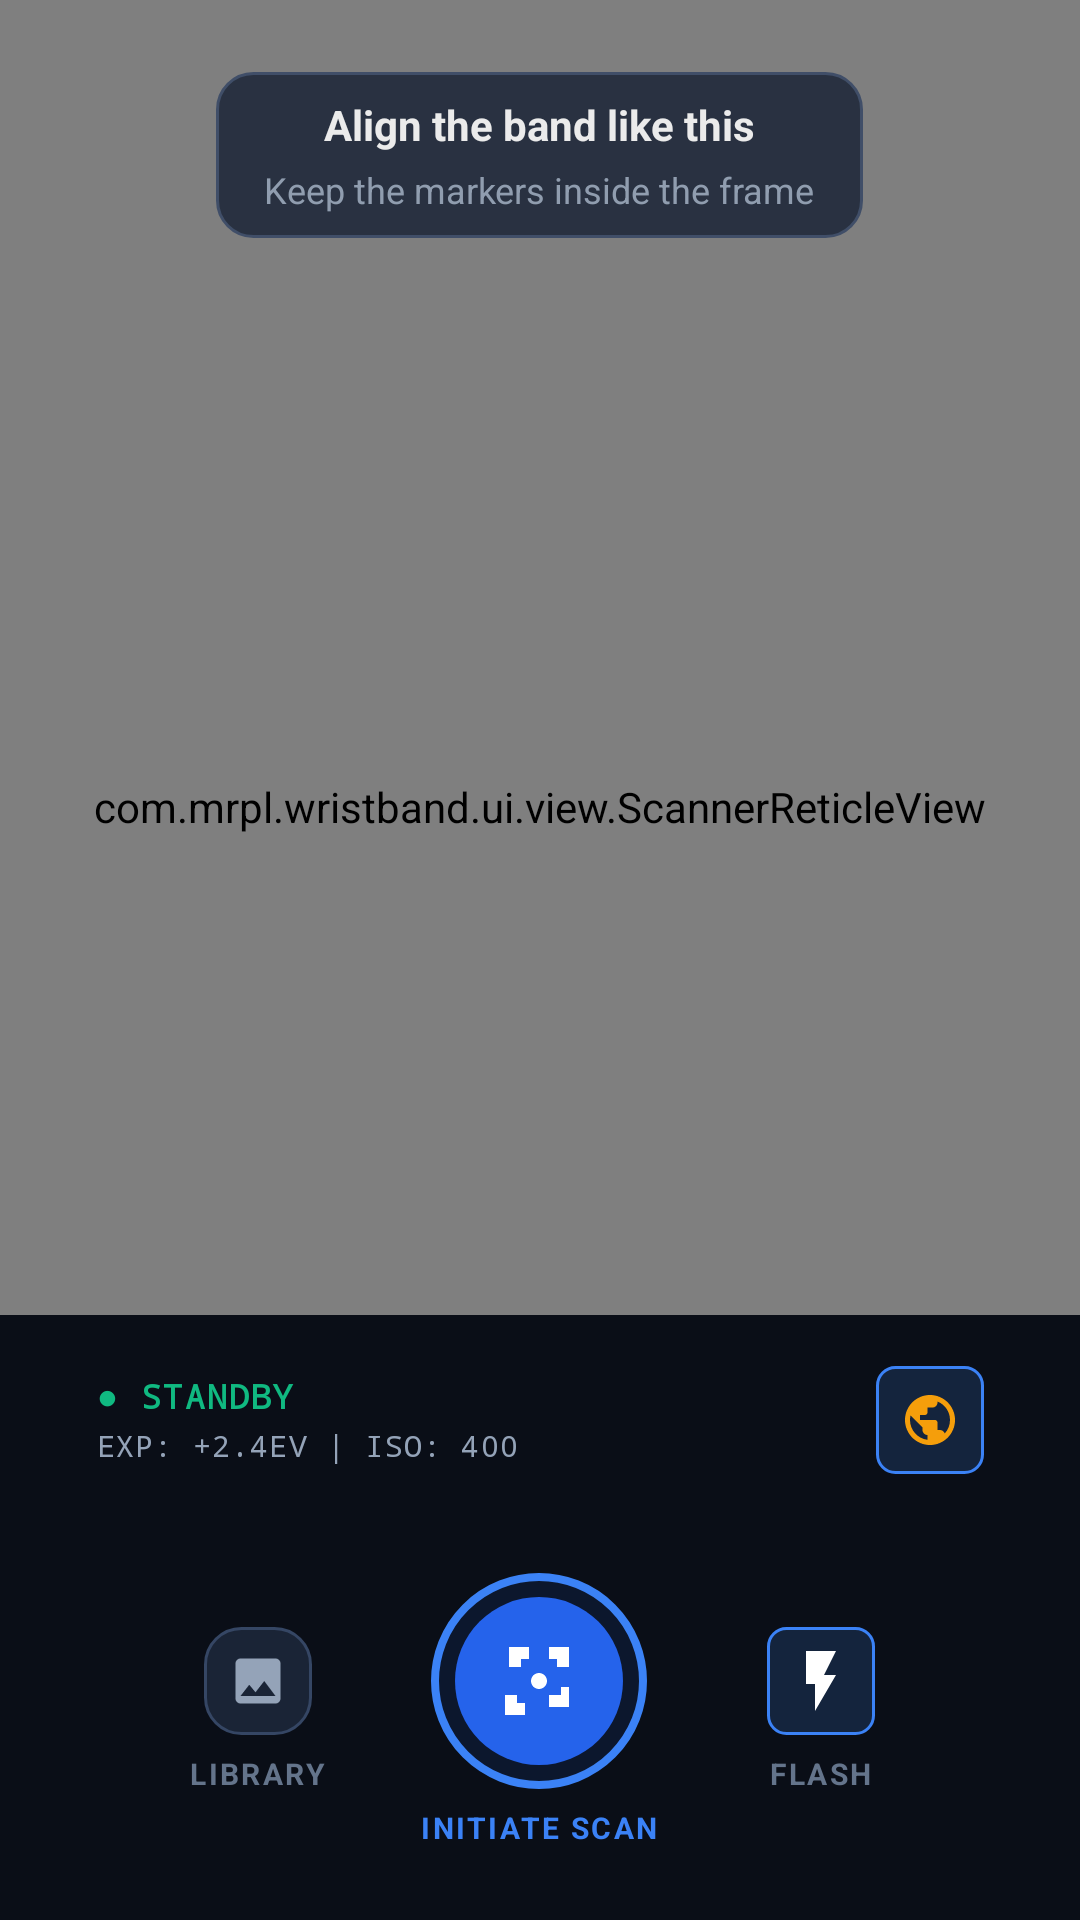

Where to tap for icons on this 1080*1920 app screen, as [x,y]:
scan camera: [537,1681]
